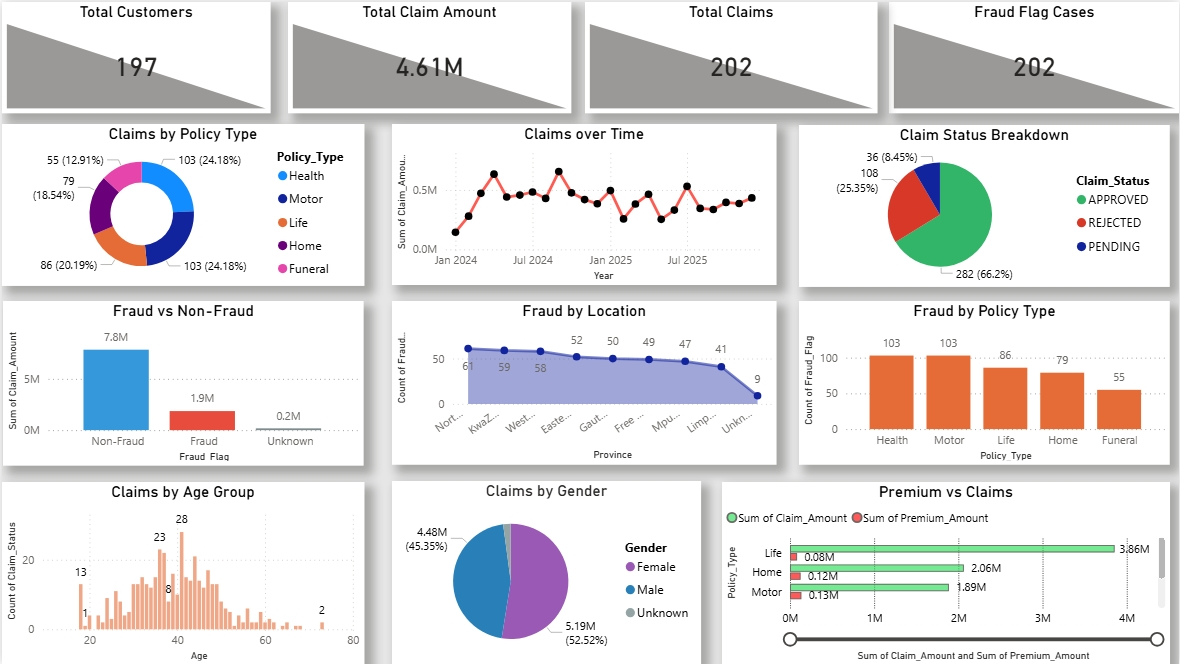

This screenshot's page, from the dashboard's own definition file:
{"tool":"powerbi","page":{"name":"Page 1","canvas":[1280,720],"ordinal":0},"visuals":[{"type":"kpi","title":"Total Customers","fields":{"Indicator":["Count(Insurance_Dataset.Claim_ID)"],"TrendLine":["Insurance_Dataset.Claim_Date.Variation.Date Hierarchy.Month"]},"box":[0,0,291.6,120.8],"z":0},{"type":"kpi","title":"Fraud Cases","fields":{"Indicator":["CountNonNull(Insurance_Dataset.Fraud_Flag)"],"TrendLine":["Insurance_Dataset.Claim_Date.Variation.Date Hierarchy.Month"]},"box":[963.9,0,316.1,120.8],"z":1000},{"type":"kpi","title":"Total Claim Amount","fields":{"Indicator":["Sum(Insurance_Dataset.Claim_Amount)"],"TrendLine":["Insurance_Dataset.Claim_Date.Variation.Date Hierarchy.Month"]},"box":[310.7,0,308,120.8],"z":2000},{"type":"kpi","title":"Total Claims","fields":{"Indicator":["CountNonNull(Insurance_Dataset.Claim_ID)"],"TrendLine":["Insurance_Dataset.Claim_Date.Variation.Date Hierarchy.Month"]},"box":[633.2,0,318,120.8],"z":3000},{"type":"donutChart","title":"Claims by Policy Type","fields":{"Y":["CountNonNull(Insurance_Dataset.Claim_ID)"],"Category":["Insurance_Dataset.Policy_Type"]},"box":[0,132.3,393.7,176.3],"z":4000},{"type":"lineChart","title":"Claims over Time","fields":{"Y":["Sum(Insurance_Dataset.Claim_Amount)"],"Category":["Insurance_Dataset.Claim_Date.Variation.Date Hierarchy.Year","Insurance_Dataset.Claim_Date.Variation.Date Hierarchy.Month"]},"box":[424.1,132.5,418.1,175.3],"z":5000},{"type":"pieChart","title":"Claim Status Breakdown","fields":{"Y":["CountNonNull(Insurance_Dataset.Claim_ID)"],"Category":["Insurance_Dataset.Claim_Status"]},"box":[866.3,133.2,403.4,175.8],"z":6000},{"type":"columnChart","title":"Fraud vs Non-Fraud","fields":{"Category":["Insurance_Dataset.Fraud_Flag"],"Y":["Sum(Insurance_Dataset.Claim_Amount)"]},"box":[1.5,325.3,392.2,179.4],"z":7000},{"type":"areaChart","title":"Fraud by Location","fields":{"Category":["Insurance_Dataset.Province"],"Y":["CountNonNull(Insurance_Dataset.Fraud_Flag)"]},"box":[424.1,325.3,418.1,177.9],"z":8000},{"type":"lineStackedColumnComboChart","title":"Fraud by Policy Type","fields":{"Category":["Insurance_Dataset.Policy_Type"],"Y":["CountNonNull(Insurance_Dataset.Fraud_Flag)"]},"box":[866.5,325.3,413.5,177.9],"z":9000},{"type":"clusteredColumnChart","title":"Claims by Age Group","fields":{"Category":["Insurance_Dataset.Age"],"Y":["CountNonNull(Insurance_Dataset.Claim_Status)"]},"box":[0,521.4,393.7,199.1],"z":10000},{"type":"pieChart","title":"Claims by Gender","fields":{"Y":["Sum(Insurance_Dataset.Claim_Amount)"],"Category":["Insurance_Dataset.Gender"]},"box":[424.1,521.1,336.2,199.1],"z":11000},{"type":"clusteredBarChart","title":"Premium vs Claims","fields":{"Category":["Insurance_Dataset.Policy_Type"],"Y":["Sum(Insurance_Dataset.Claim_Amount)","Sum(Insurance_Dataset.Premium_Amount)"]},"box":[782.9,521.4,497.1,199.1],"z":12000}]}

Visuals, with their boxes in screenshot pixels (x1, y1, x2, y2), scaled from the page's 1280x720 canvas onto the 1180x664 screenshot:
"Total Customers" kpi: [left=0, top=0, right=269, bottom=111]
"Fraud Cases" kpi: [left=889, top=0, right=1179, bottom=111]
"Total Claim Amount" kpi: [left=286, top=0, right=570, bottom=111]
"Total Claims" kpi: [left=584, top=0, right=877, bottom=111]
"Claims by Policy Type" donutChart: [left=0, top=122, right=363, bottom=285]
"Claims over Time" lineChart: [left=391, top=122, right=776, bottom=284]
"Claim Status Breakdown" pieChart: [left=799, top=123, right=1171, bottom=285]
"Fraud vs Non-Fraud" columnChart: [left=1, top=300, right=363, bottom=465]
"Fraud by Location" areaChart: [left=391, top=300, right=776, bottom=464]
"Fraud by Policy Type" lineStackedColumnComboChart: [left=799, top=300, right=1179, bottom=464]
"Claims by Age Group" clusteredColumnChart: [left=0, top=481, right=363, bottom=663]
"Claims by Gender" pieChart: [left=391, top=481, right=701, bottom=663]
"Premium vs Claims" clusteredBarChart: [left=722, top=481, right=1179, bottom=663]
